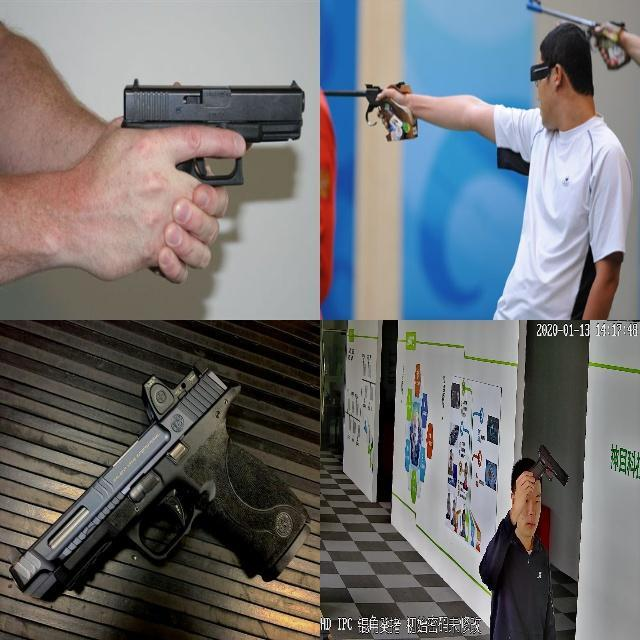gun-knife-thesis - v11 Yolov5 augmented: (10, 357, 311, 600), (121, 74, 304, 279), (521, 0, 629, 67), (319, 81, 417, 139), (527, 439, 569, 488)
